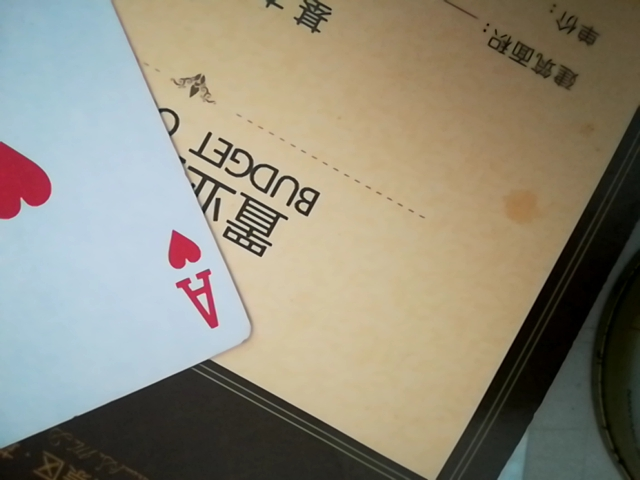hx a: (0, 2, 241, 444)
